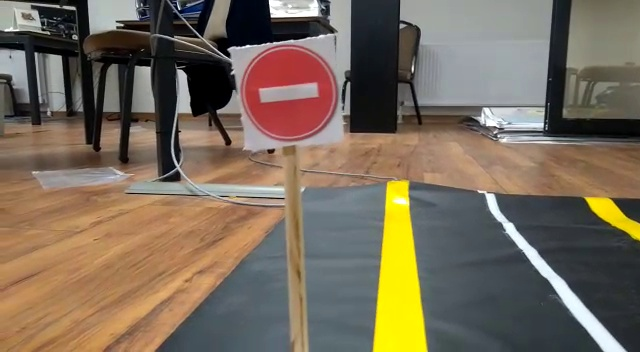girisi_olmayan_yol: (238, 42, 344, 147)
